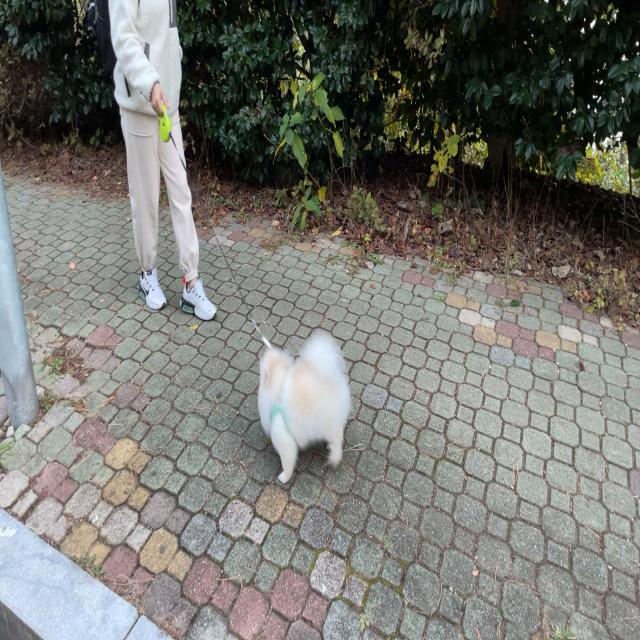Leashed_Dog: (139, 82, 351, 484)
